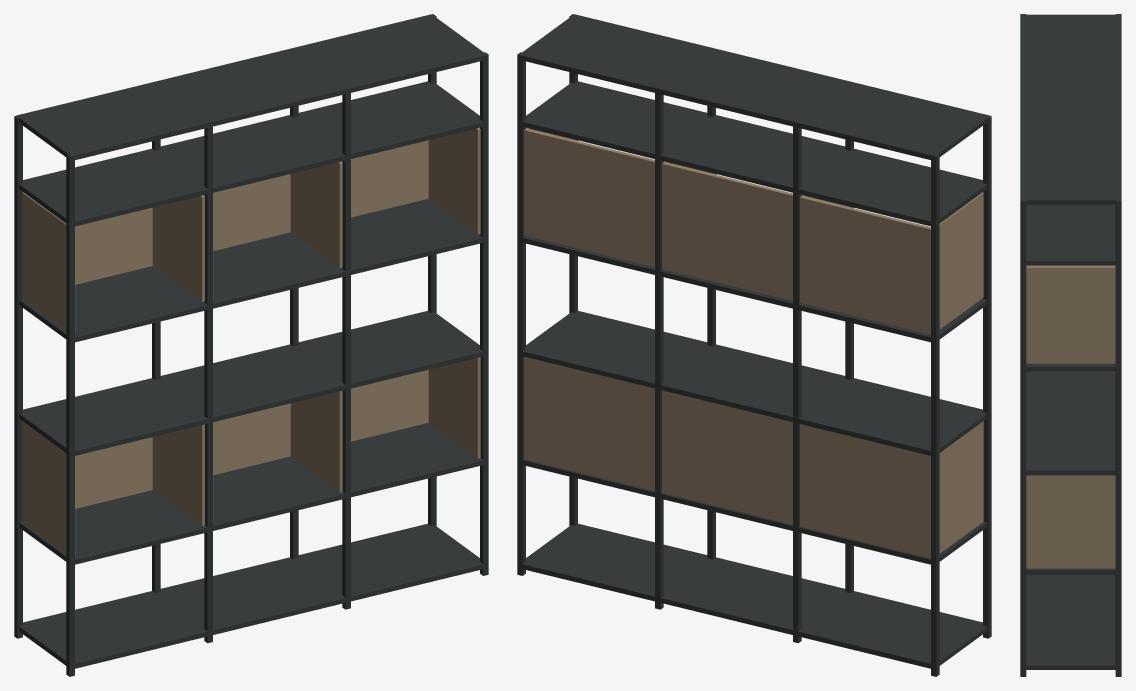
The picture shows the model from 3 angles, left to right: view 1: azimuth 30°, elevation 25°; view 2: azimuth 150°, elevation 25°; view 3: azimuth 270°, elevation 25°; orthographic projection. The views are drawn at different scales.
Visible parts, largest first — view 1: Thin square vertical frame, Wood cubby back; view 2: Thin square vertical frame, Wood cubby back; view 3: Thin square vertical frame, Wood cubby back.
Boxes of the visible parts, x1,y1,x2,y2 form: Thin square vertical frame: [14, 14, 488, 676]; Wood cubby back: [22, 128, 480, 556]; Thin square vertical frame: [517, 14, 991, 676]; Wood cubby back: [524, 128, 983, 558]; Thin square vertical frame: [1020, 14, 1121, 676]; Wood cubby back: [1026, 265, 1115, 568].
Bounding box in the file's own units: 1.86 × 2.2 × 0.425.
